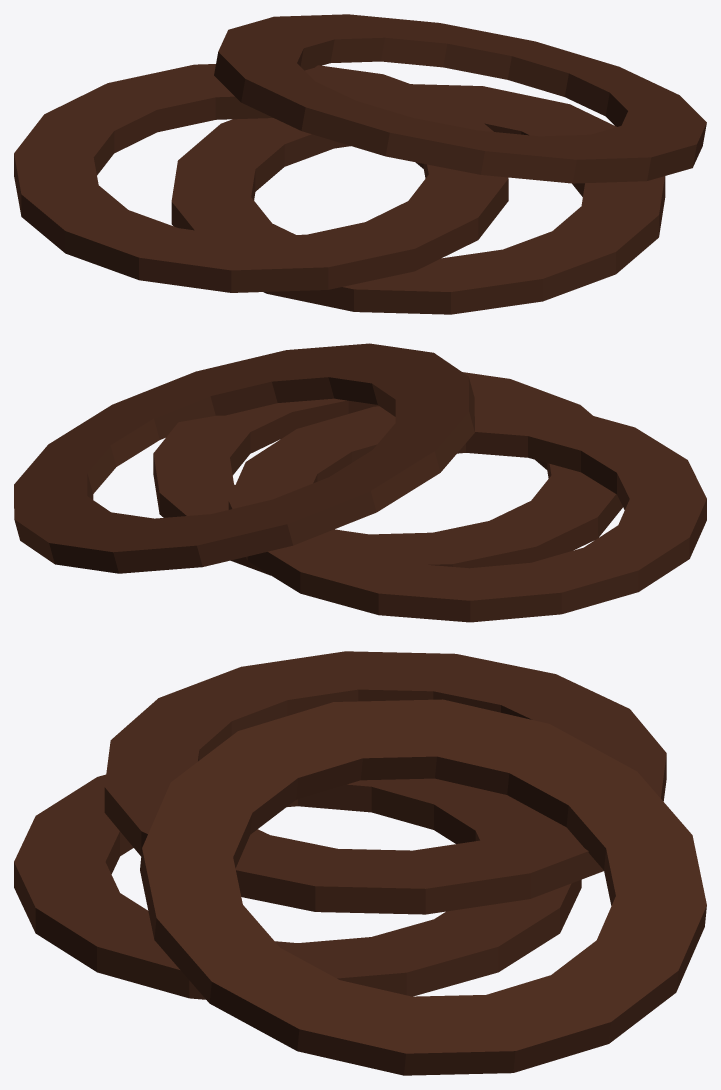
The model's file is Scrap3.glb.
The picture shows the model from 3 angles, top to bottom: view 1: azimuth 30°, elevation 25°; view 2: azimuth 150°, elevation 25°; view 3: azimuth 270°, elevation 25°; orthographic projection. The views are drawn at different scales.
Visible parts, largest first — view 1: Scrap 3_001; view 2: Scrap 3_001; view 3: Scrap 3_001.
Part boxes in pixels (x1,y1,x2,y2): Scrap 3_001: [14, 14, 706, 314]; Scrap 3_001: [14, 343, 706, 622]; Scrap 3_001: [14, 651, 706, 1075].
Bounding box in the file's own units: 0.5944 × 0.1204 × 0.4882.
